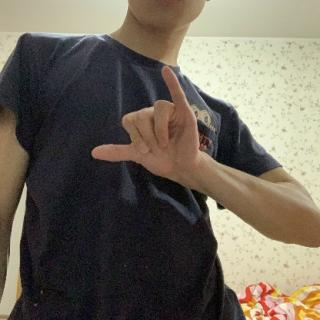YA: (88, 63, 207, 188)
